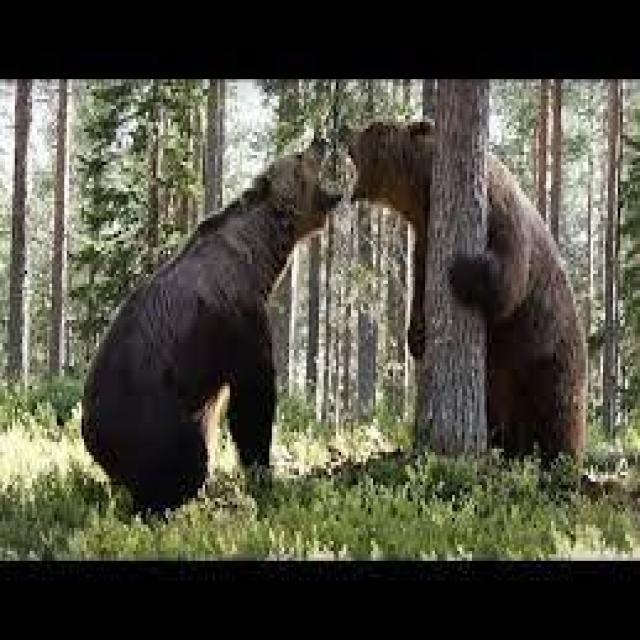Bear: (79, 145, 341, 521), (447, 142, 588, 472), (346, 122, 437, 439)
